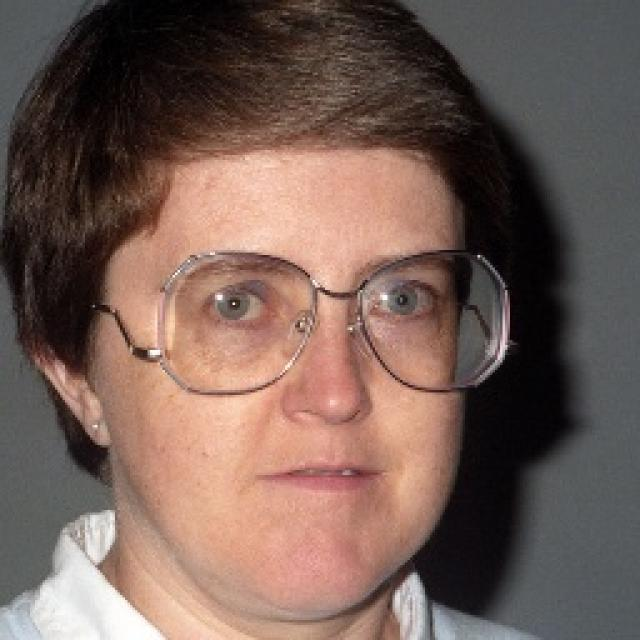glasses: (85, 238, 558, 407)
